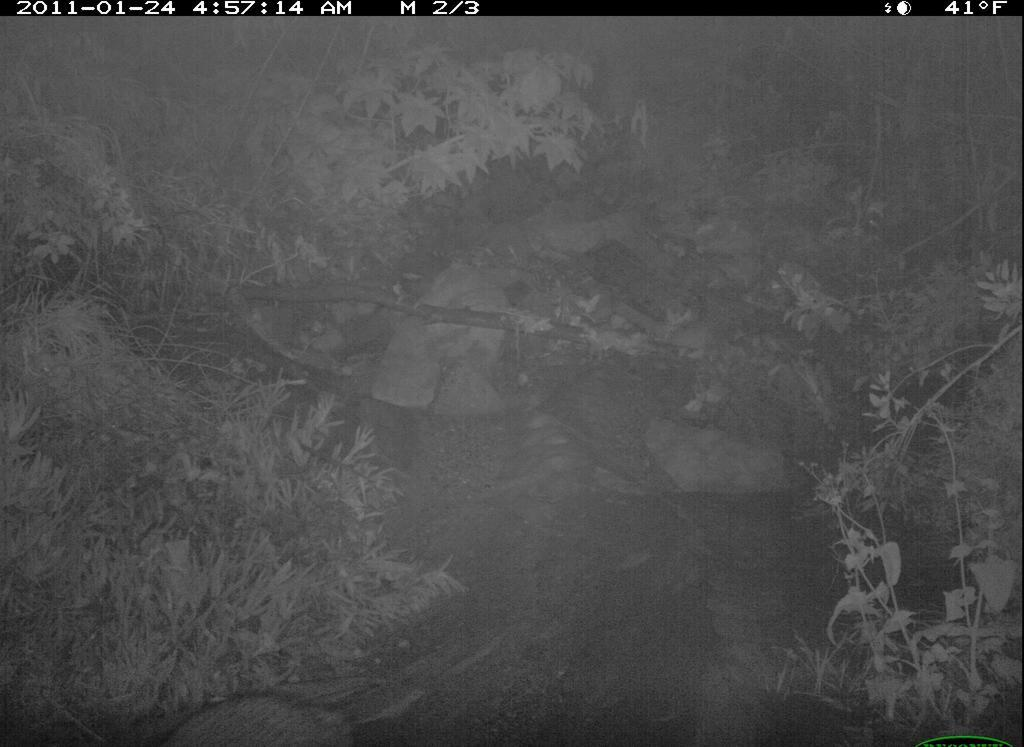raccoon: (145, 689, 361, 747)
